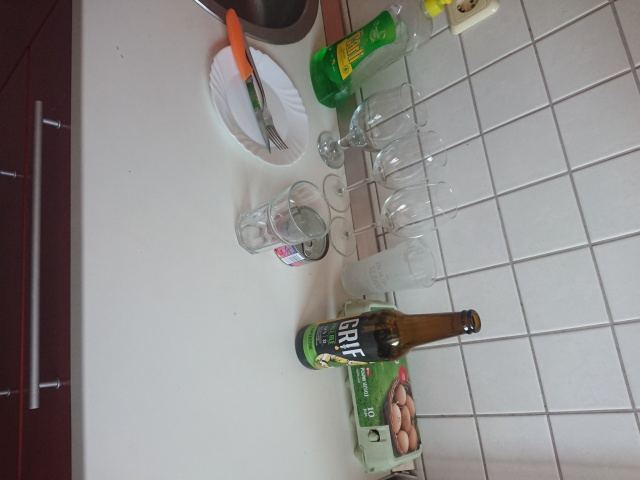Giana Tuna Salad Mexico 185g: (270, 204, 331, 269)
